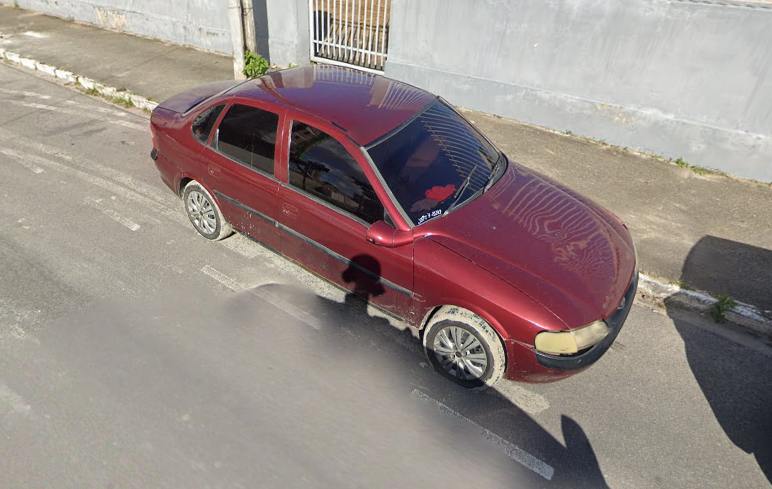car: (148, 61, 641, 394)
